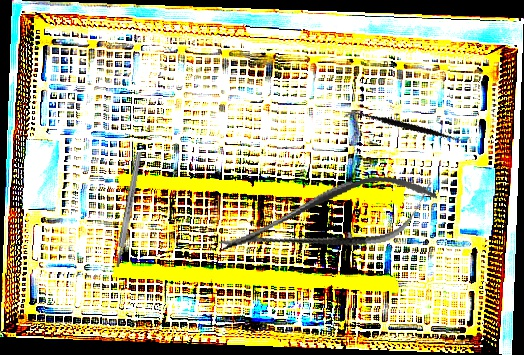Micro Scissor: (212, 163, 444, 276)
Scalpel Handle: (113, 151, 144, 268)
Spatula Surgical: (343, 78, 471, 177)
